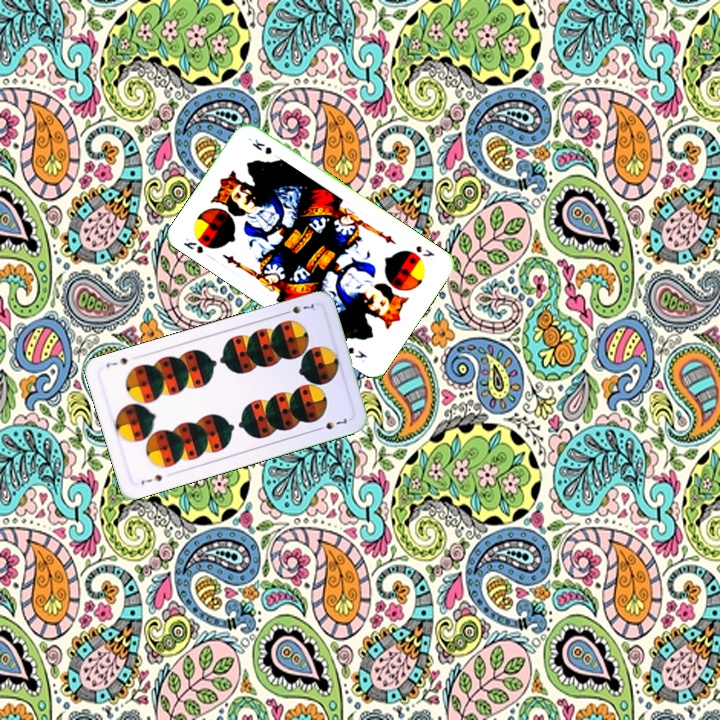S7: (279, 299, 317, 317), (137, 470, 165, 488)
SK: (179, 234, 206, 256), (412, 241, 437, 260)
